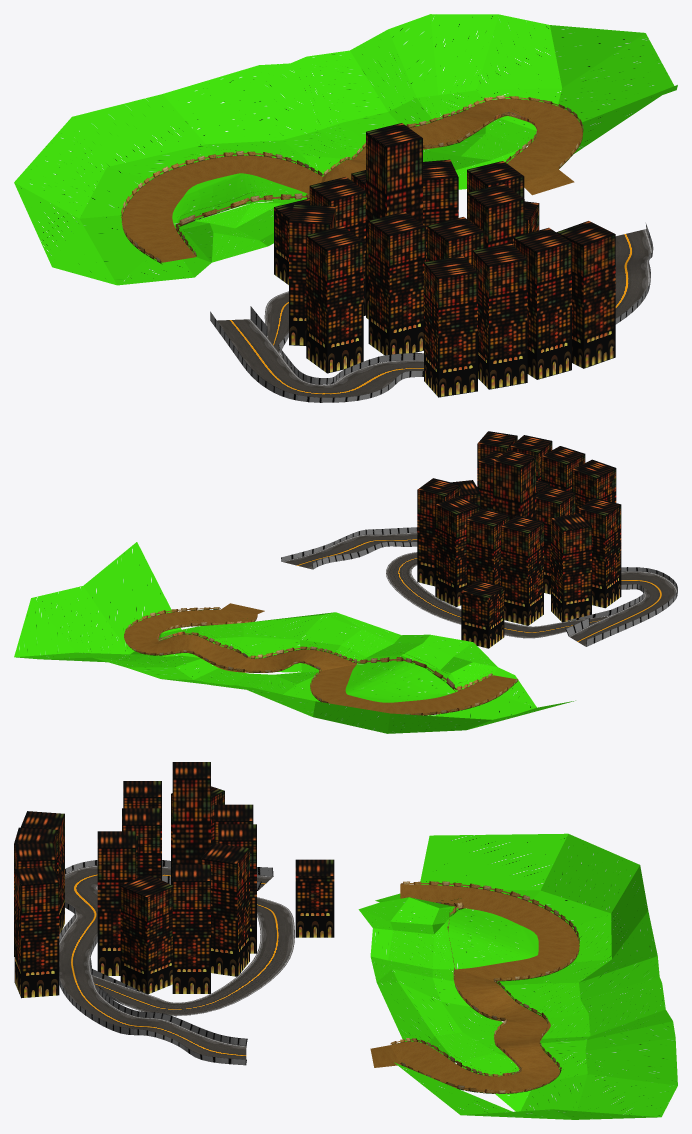
The model's file is dogtalk track.fbx.
The picture shows the model from 3 angles, top to bottom: view 1: azimuth 30°, elevation 25°; view 2: azimuth 150°, elevation 25°; view 3: azimuth 270°, elevation 25°; orthographic projection. The views are drawn at different scales.
Visible parts, largest first — view 1: Grass, skyscrapers, Farm road, City road, Fence, Sidewalk; view 2: Grass, skyscrapers, Farm road, City road, Sidewalk, Fence; view 3: Grass, skyscrapers, Farm road, City road, Sidewalk, Fence.
Boxes of the visible parts, box(x1,y1,x2,y2) form: Grass: box(14, 14, 677, 285); skyscrapers: box(274, 123, 615, 397); Farm road: box(122, 99, 582, 262); City road: box(217, 229, 652, 397); Fence: box(121, 95, 583, 264); Sidewalk: box(210, 224, 653, 402); Grass: box(14, 542, 575, 733); skyscrapers: box(417, 431, 621, 648); Farm road: box(124, 603, 516, 715); City road: box(282, 532, 677, 646); Sidewalk: box(281, 527, 677, 646); Fence: box(124, 607, 518, 715); Grass: box(358, 833, 677, 1119); skyscrapers: box(14, 762, 334, 998); Farm road: box(370, 884, 579, 1093); City road: box(59, 865, 294, 1059); Sidewalk: box(59, 860, 273, 1065); Fence: box(390, 881, 579, 1093).
Bounding box in the file's own units: 62668 × 19198 × 59428.
